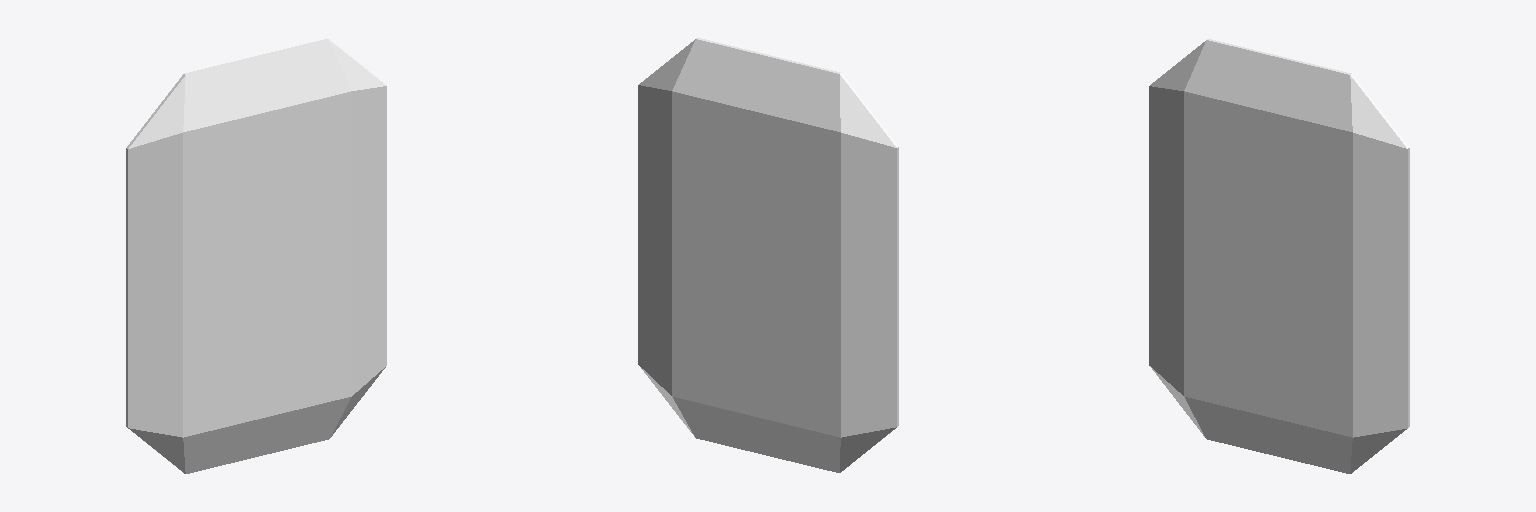
The model's file is GasSac_Gas.obj.
3 views of the same model, side by side, from view 1: azimuth 30°, elevation 25°; view 2: azimuth 150°, elevation 25°; view 3: azimuth 330°, elevation 25° (orthographic).
Parts seen in each view (by area): view 1: Mesh1 Model; view 2: Mesh1 Model; view 3: Mesh1 Model.
Part boxes in pixels (x1,y1,x2,y2): Mesh1 Model: (126,39,386,473); Mesh1 Model: (638,38,898,472); Mesh1 Model: (1149,39,1409,473).
Size of the model in its own units: 0.1263 by 0.1862 by 0.0196.